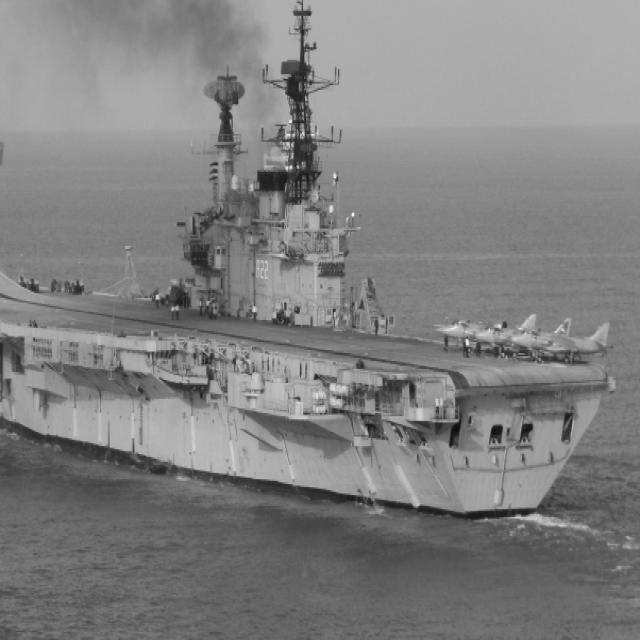Portanaves: (1, 1, 620, 528)
